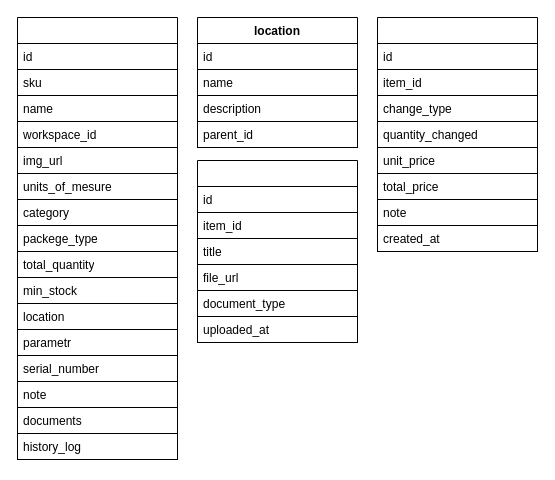
The diagram is 555 pixels wide and 480 high, and some of its shapes have lost their labels. Each missing label, with the box of its shape:
inventory_logs: (376, 16, 538, 252)
Item: (16, 16, 178, 460)
item_documents: (196, 160, 358, 342)
